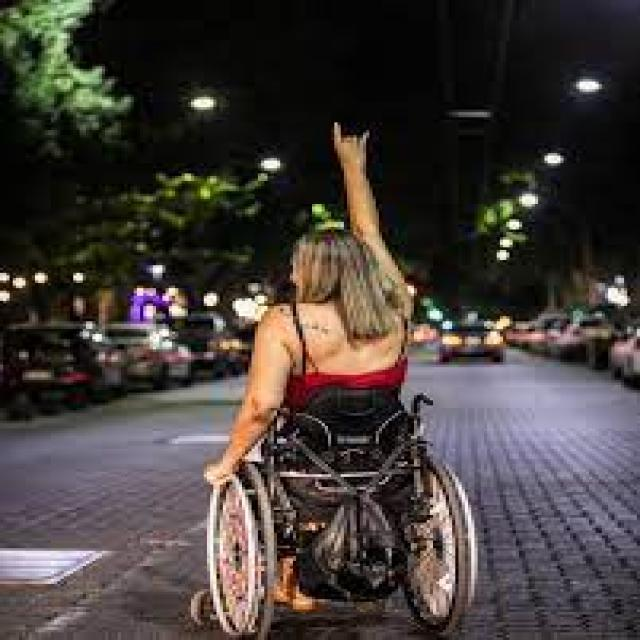wheelchairs: (173, 374, 503, 639)
